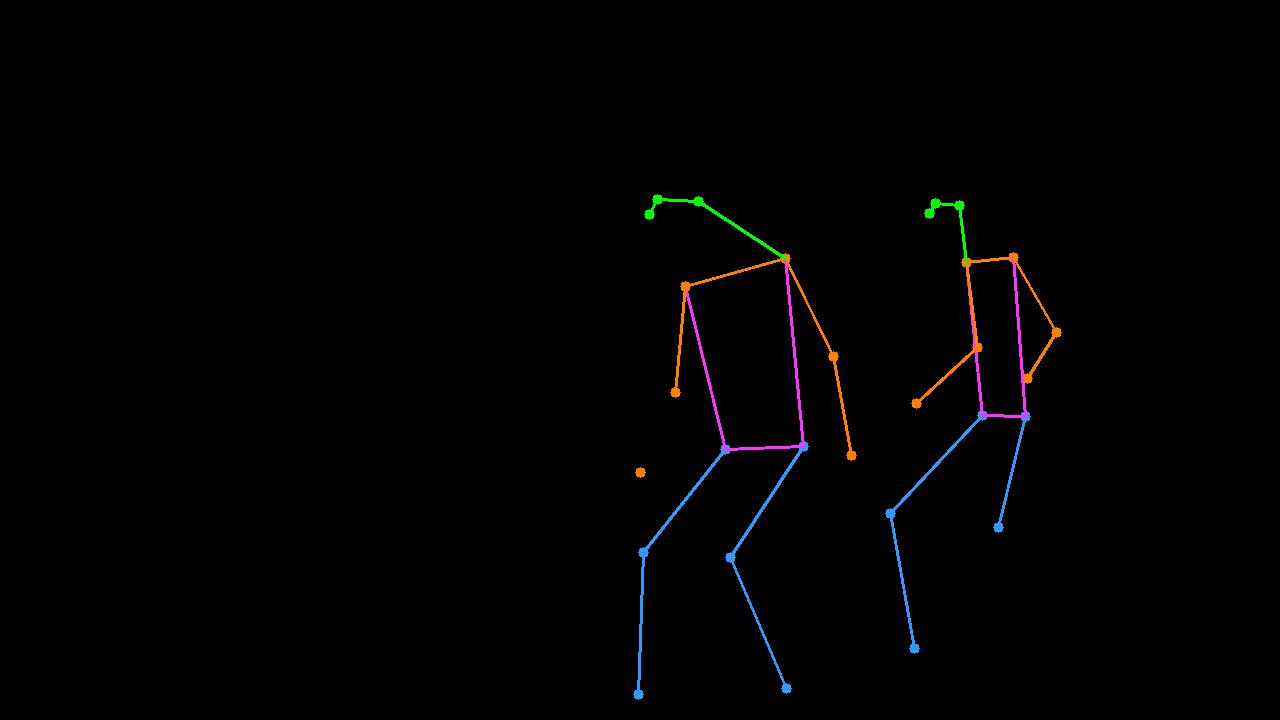normal: (609, 139, 889, 720), (867, 161, 1066, 680)
